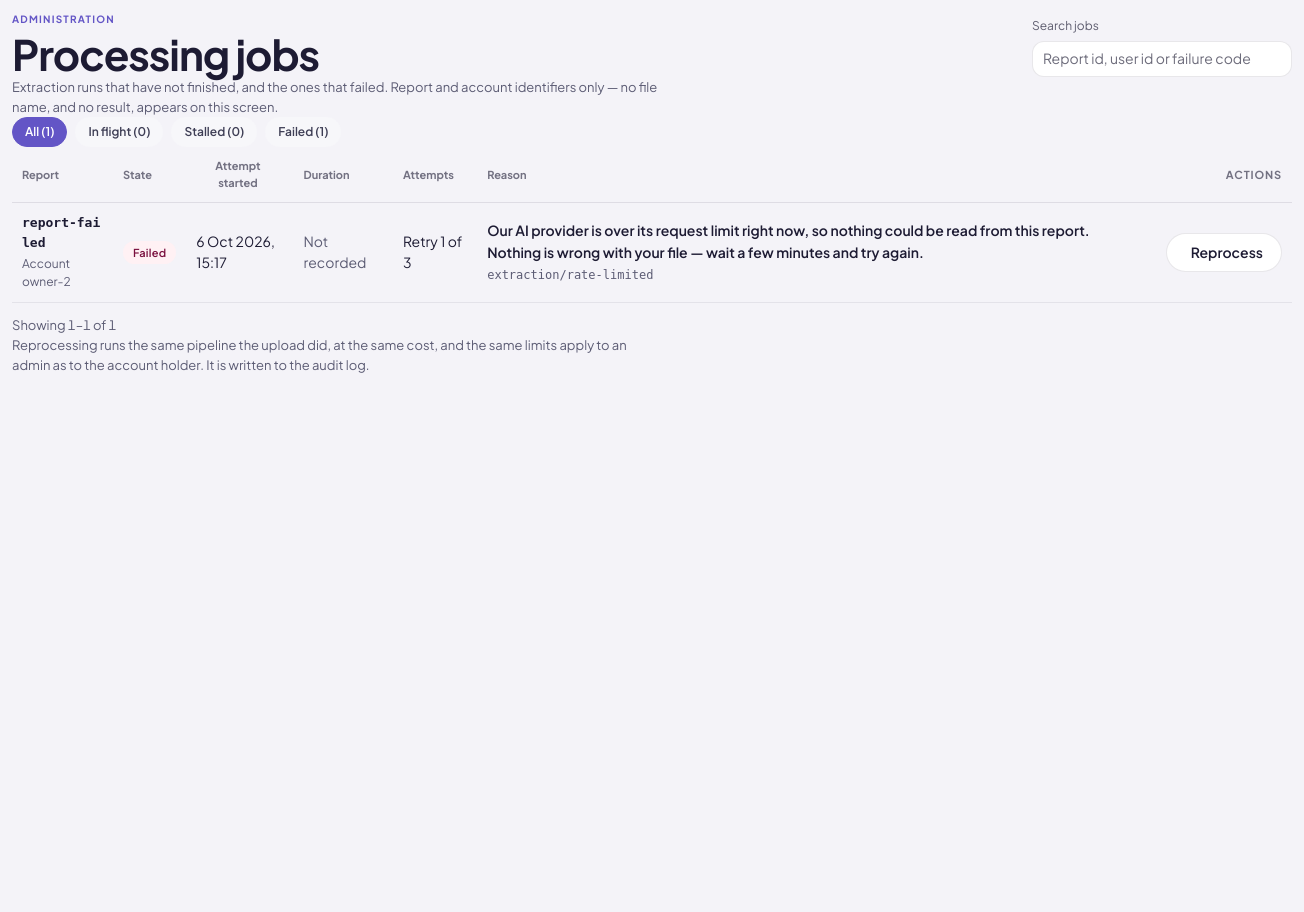
Scenario: AdminJobs › reprocesses a stranded job and reports what actually happened
The image size is (1304, 912).
Click the button with aria-label "Reprocess report report-failed". click: x=1224, y=252
box: [1166,233,1282,272]
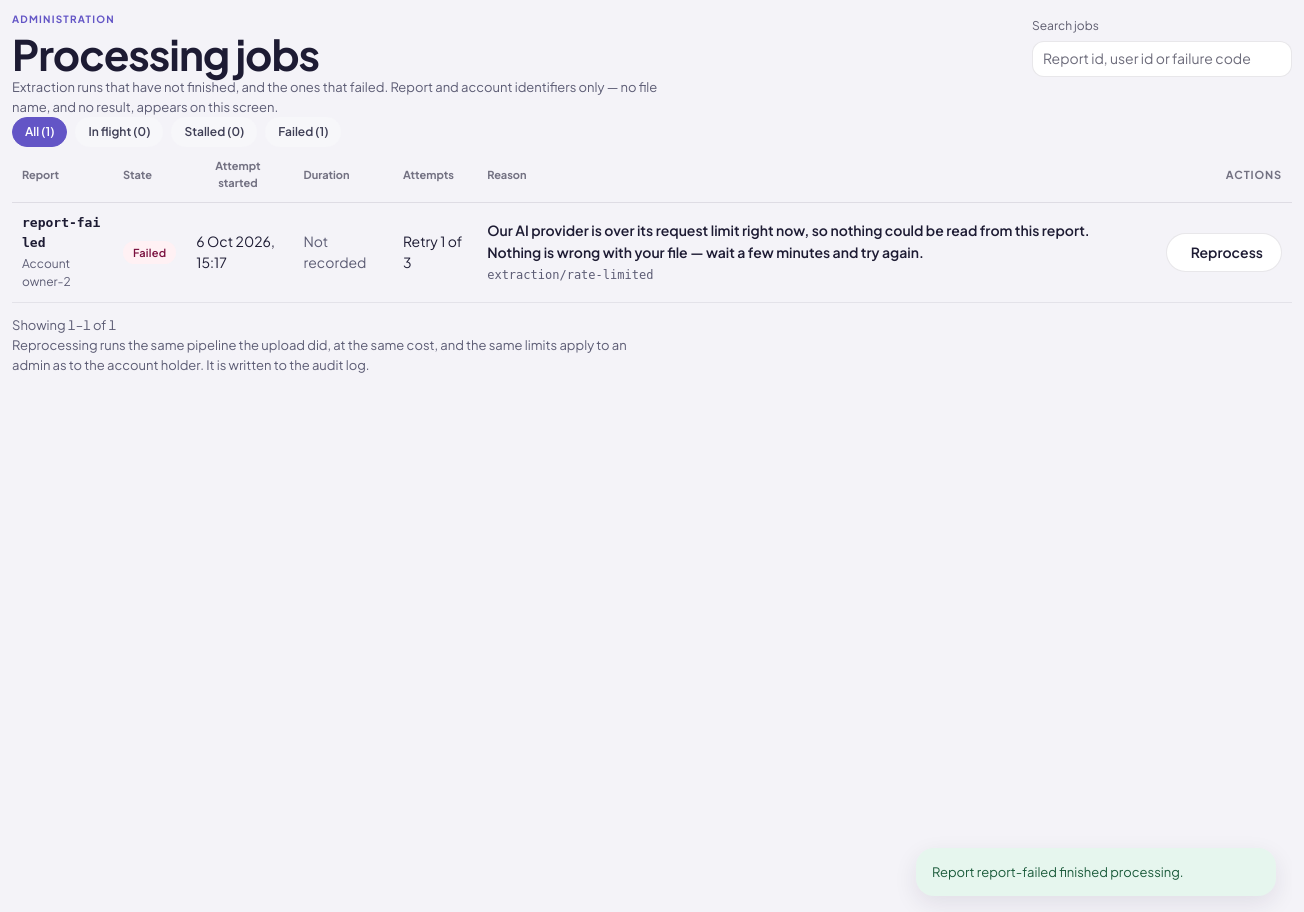
Check: the text "Report report-failed finished processing." is shown, box [932,864,1184,880]
